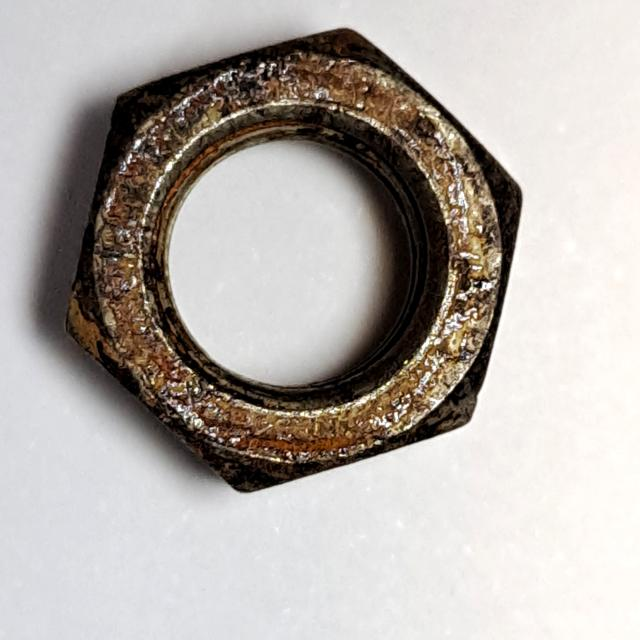Rust: (53, 12, 534, 511)
